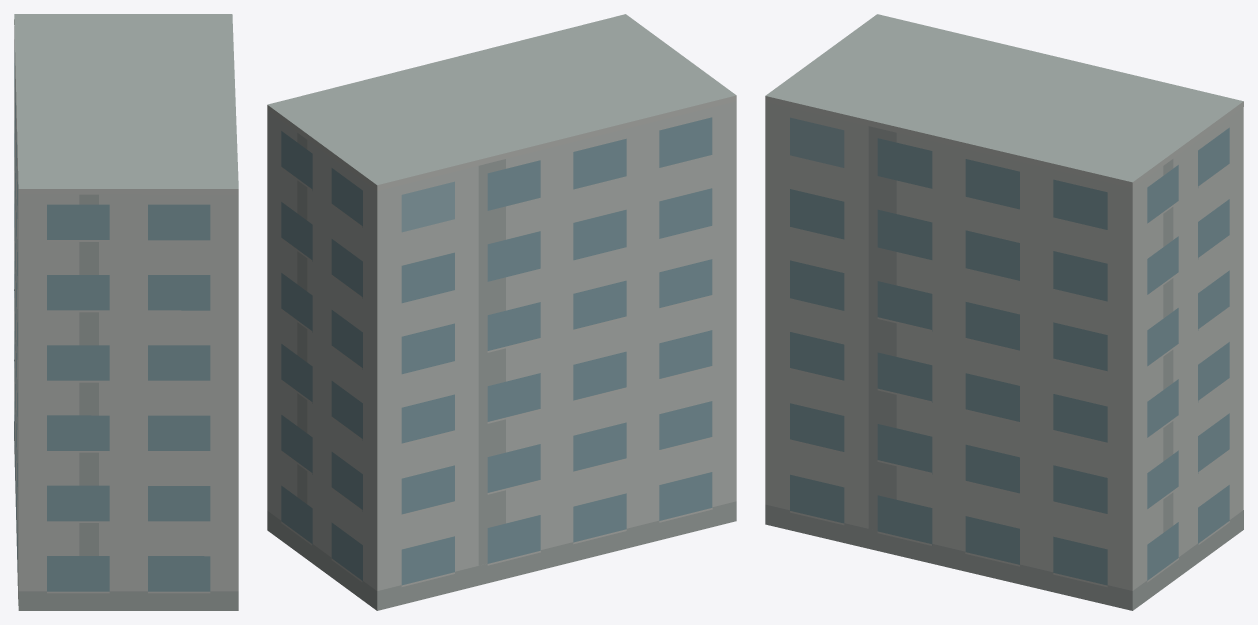
File: survey-upis-32802554.glb
3 views of the same model, side by side, from view 1: azimuth 30°, elevation 25°; view 2: azimuth 150°, elevation 25°; view 3: azimuth 270°, elevation 25° (orthographic).
Visible parts, largest first — view 1: survey-upis-32802554.tmp; view 2: survey-upis-32802554.tmp; view 3: survey-upis-32802554.tmp.
Boxes of the visible parts, x1,y1,x2,y2 form: survey-upis-32802554.tmp: (14,14,238,610); survey-upis-32802554.tmp: (267,14,736,610); survey-upis-32802554.tmp: (765,14,1243,610).
Bounding box in the file's own units: 14.92 × 17.7 × 17.92.
